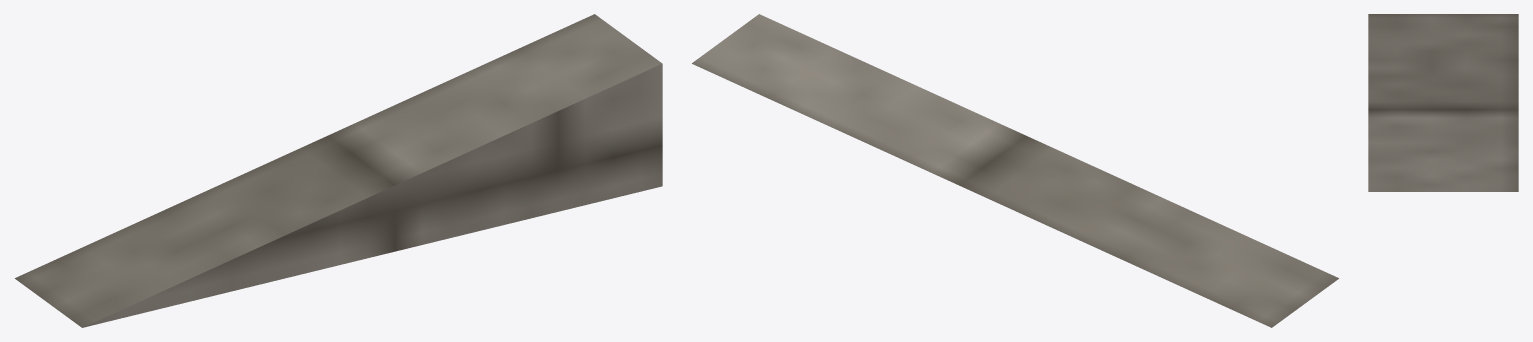
File: tunel_silnicni_zed_0_z.glb
3 renders of one model, left to right at view 1: azimuth 30°, elevation 25°; view 2: azimuth 150°, elevation 25°; view 3: azimuth 270°, elevation 25°, orthographic. The views are drawn at different scales.
Parts seen in each view (by area): view 1: tunel_silnicni_zed_0_z; view 2: tunel_silnicni_zed_0_z; view 3: tunel_silnicni_zed_0_z.
Part boxes in pixels (box(x1,y1,x2,y2)): tunel_silnicni_zed_0_z: box(15, 14, 662, 327); tunel_silnicni_zed_0_z: box(692, 14, 1338, 327); tunel_silnicni_zed_0_z: box(1368, 14, 1518, 191).
Bounding box in the file's own units: 4.95 × 1 × 1.
Materials: 1 (1 with a texture image).
